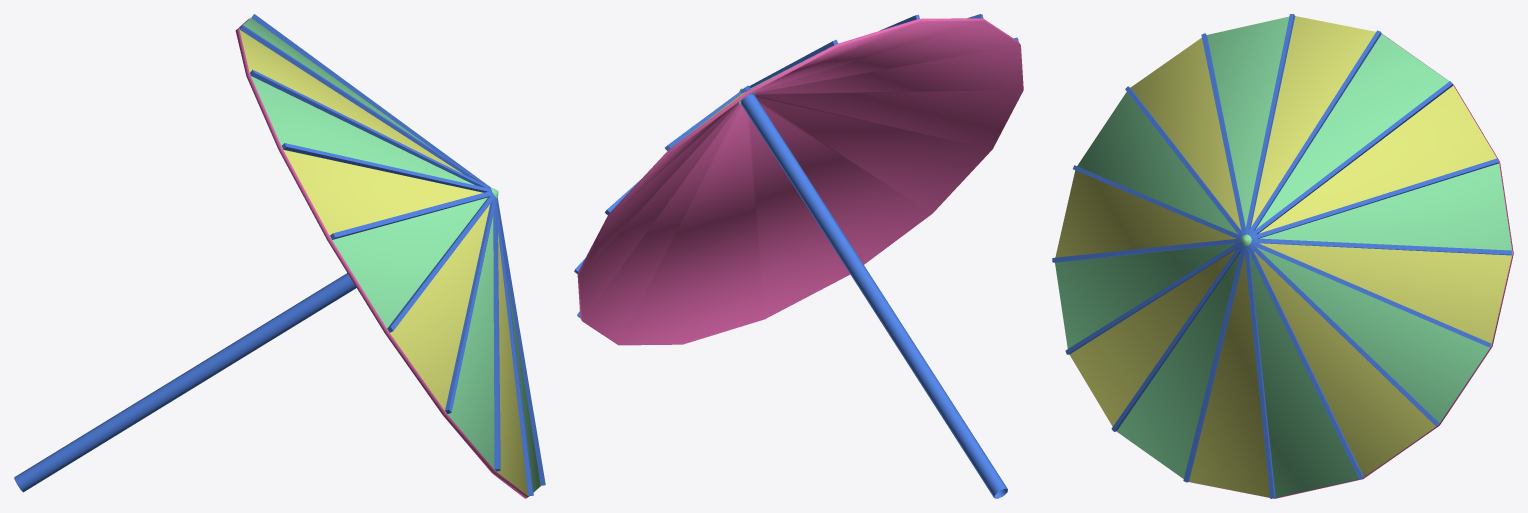
File: Sonnenschirm_02.fbx
The picture shows the model from 3 angles, left to right: view 1: azimuth 30°, elevation 25°; view 2: azimuth 150°, elevation 25°; view 3: azimuth 270°, elevation 25°; orthographic projection. The views are drawn at different scales.
Visible parts, largest first — view 1: Cylinder.050; view 2: Cylinder.050; view 3: Cylinder.050.
Part boxes in pixels (bbox=[...]): Cylinder.050: bbox=[14, 14, 545, 498]; Cylinder.050: bbox=[574, 14, 1023, 498]; Cylinder.050: bbox=[1052, 14, 1513, 498].
Size of the model in its own units: 380 by 345 by 382.
